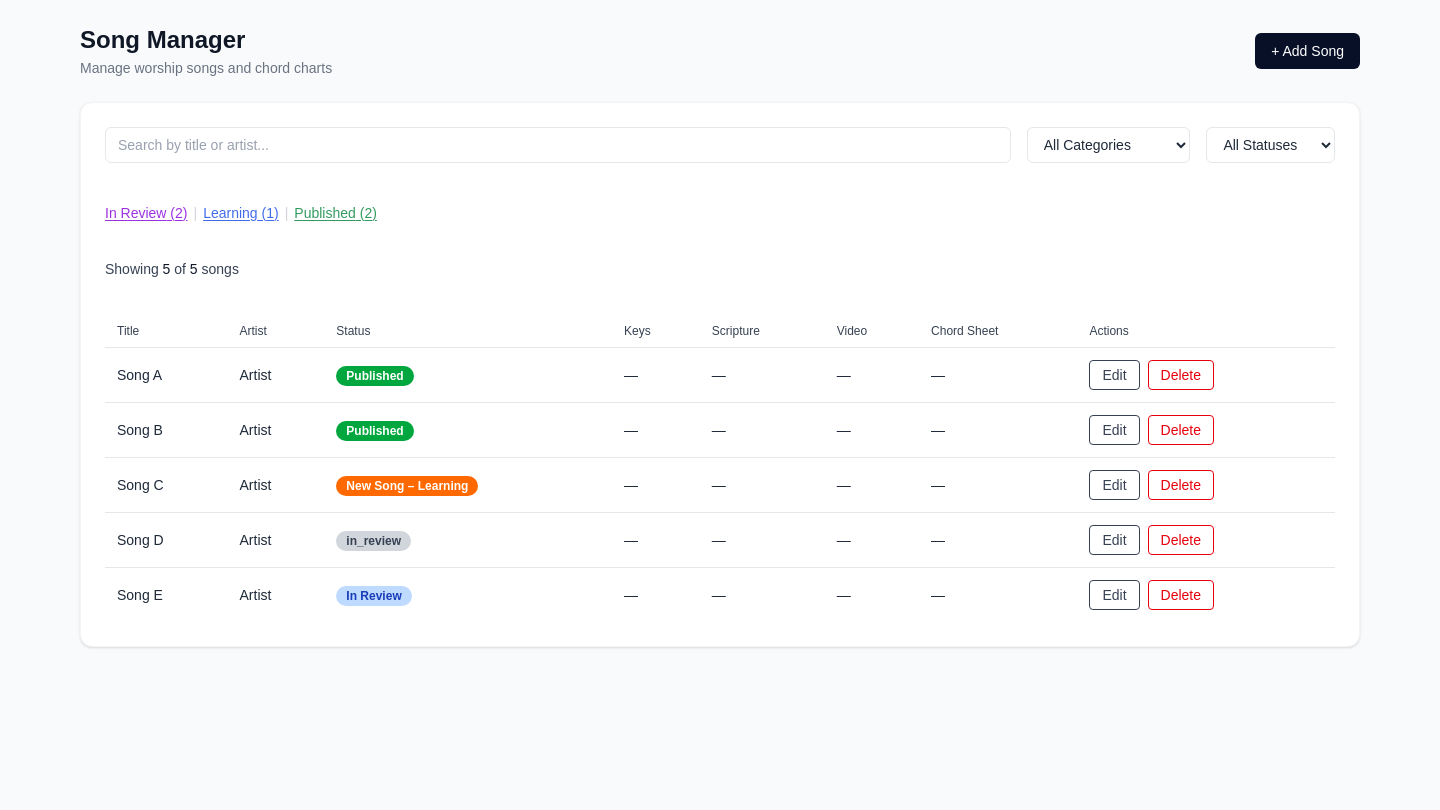
AdminSongsPage — quick-stats bar › clicking a stat button filters the table and shows Clear filter
Expected: the text "Song A" is shown, [105,348,228,402]
Click the button "Learning (1)" at {"x": 241, "y": 213}, box [203,203,279,223]
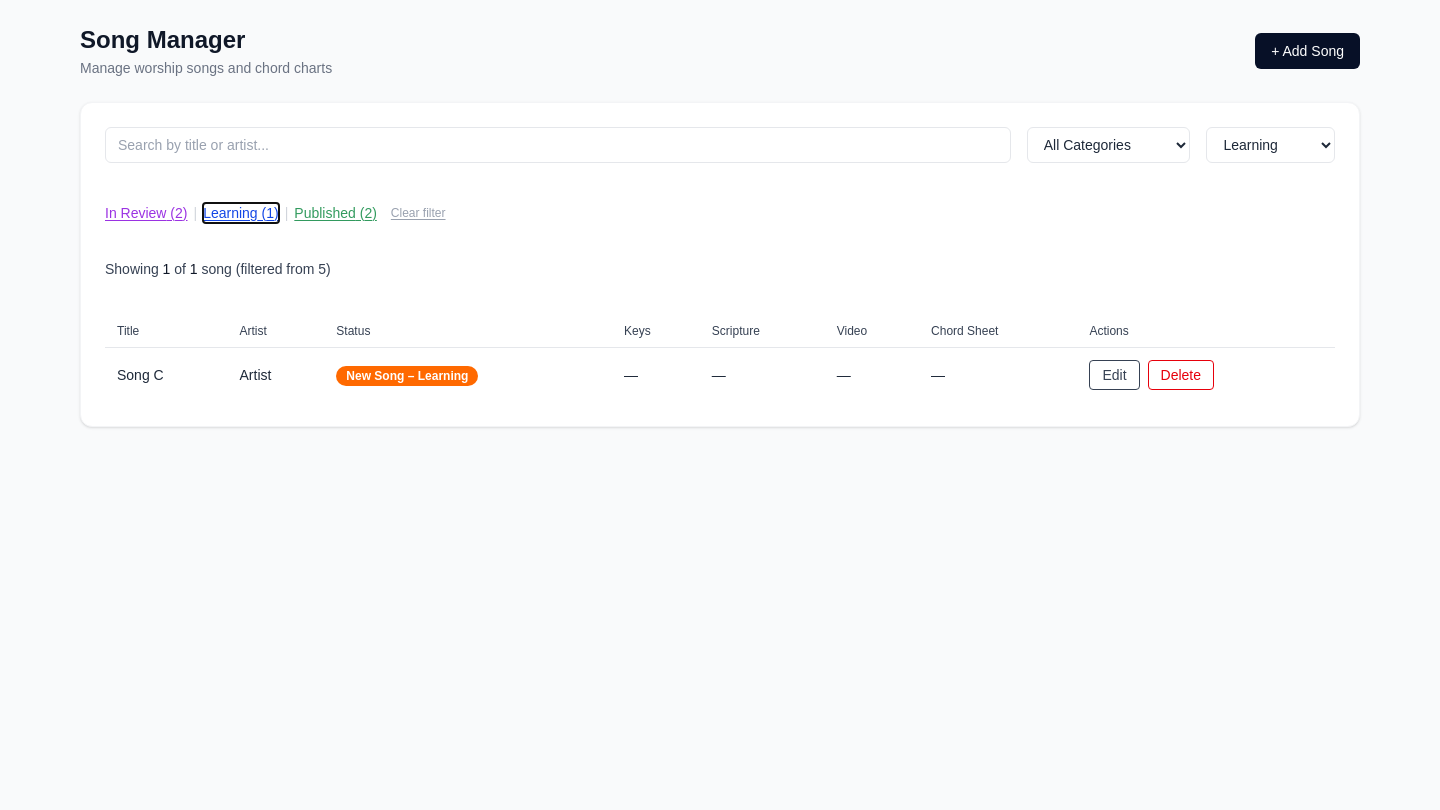
Expected: the text "Song C" is shown, [105,348,228,402]
Expected: the text "Song A" is gone
Expected: the button "Clear filter" is shown, [391,205,446,221]
